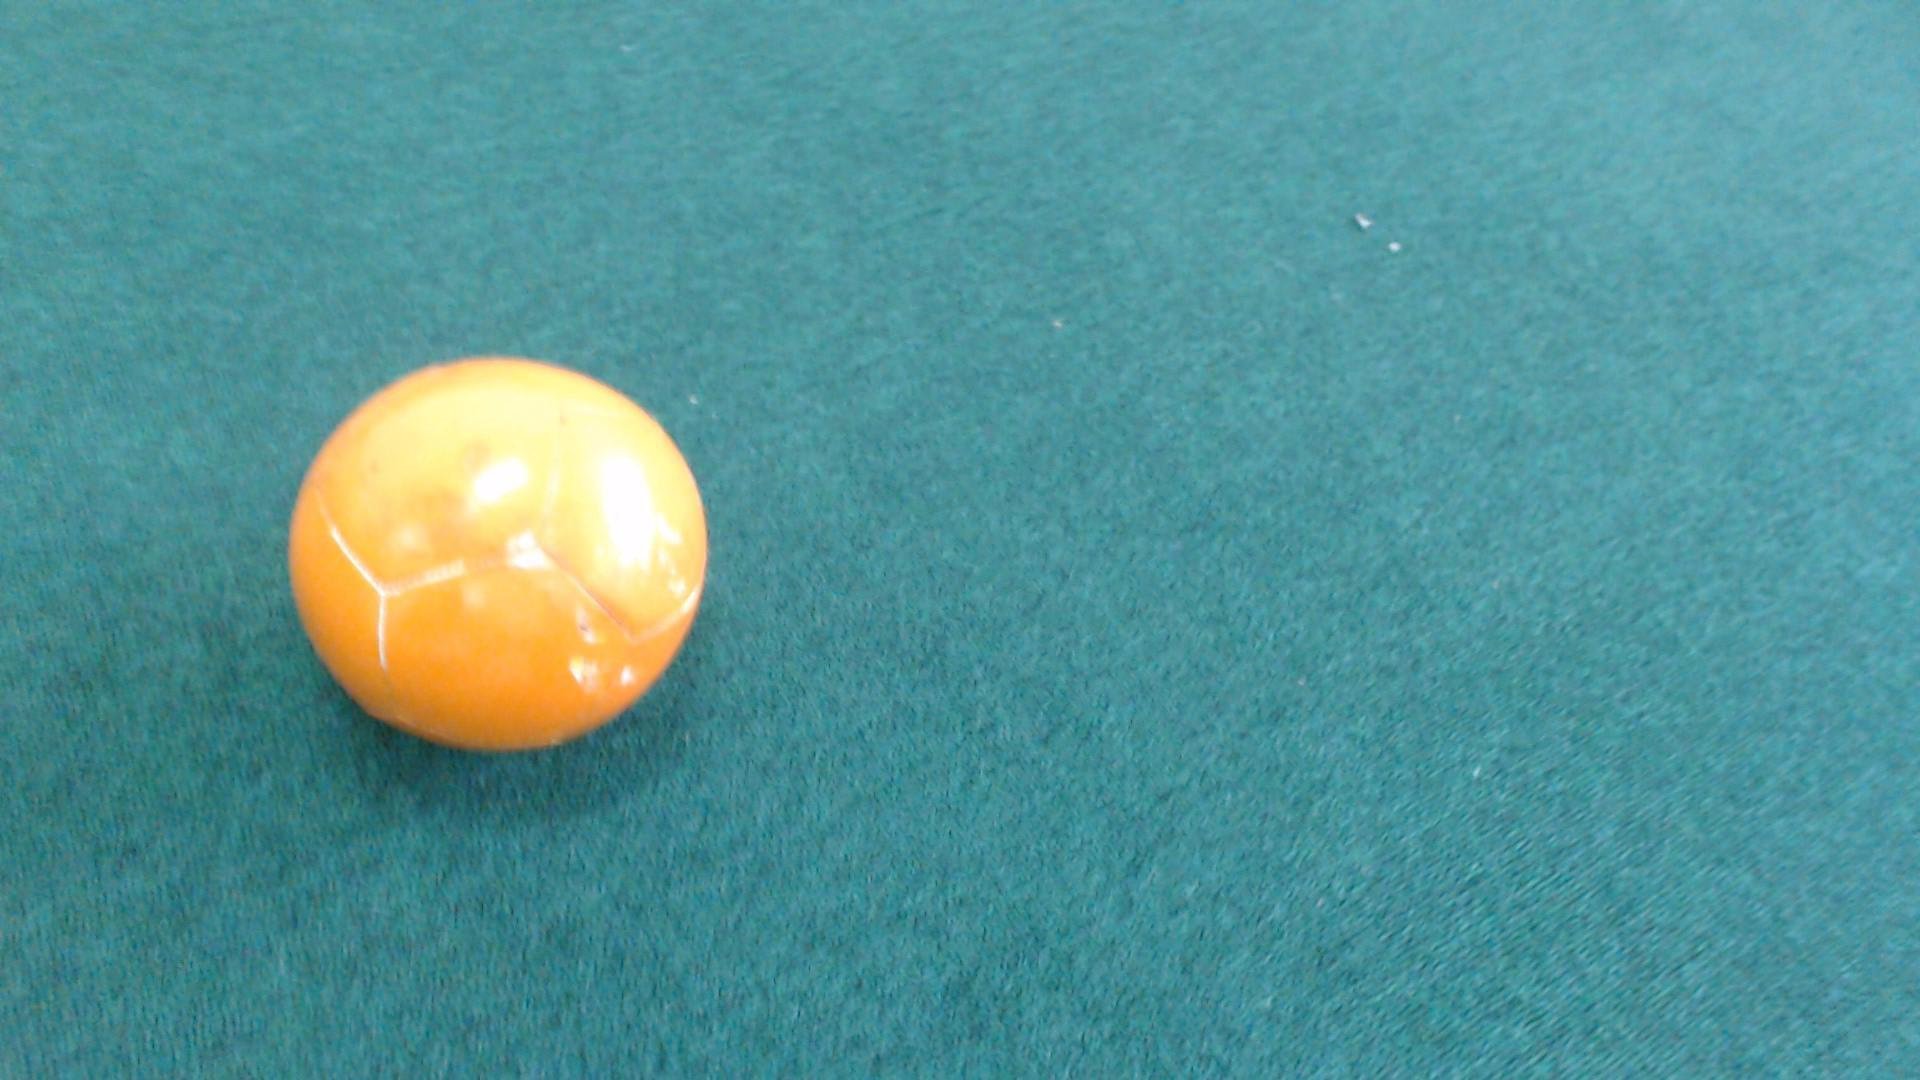bola: (257, 349, 719, 773)
